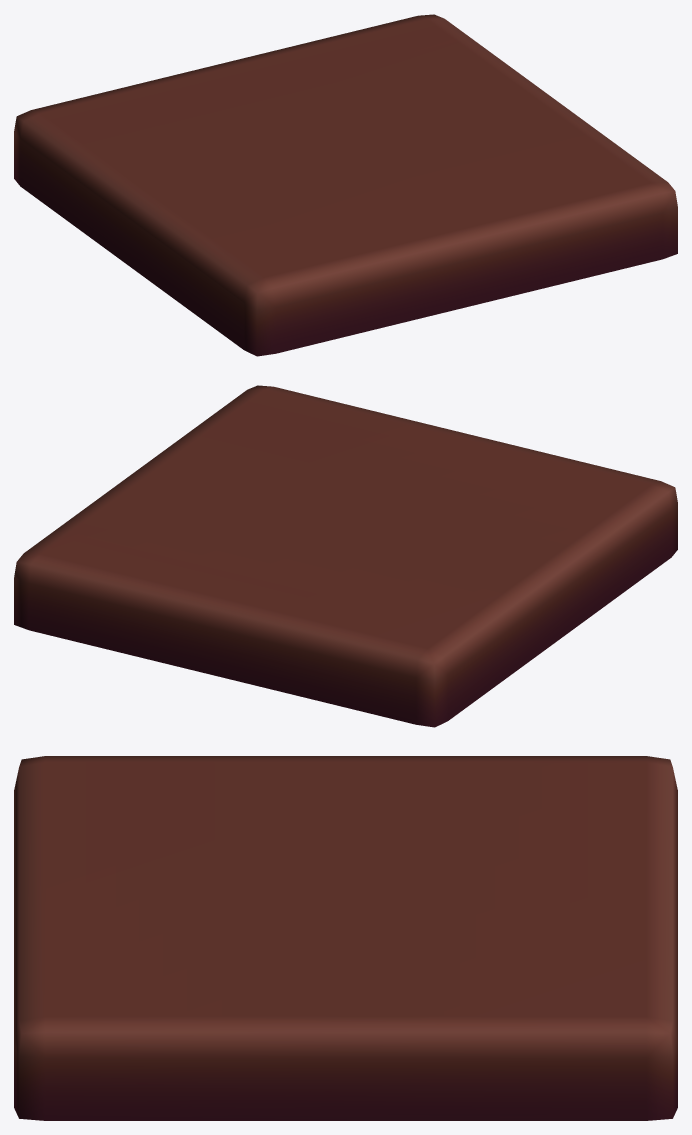
File: Square.fbx
3 views of the same model, one above another, from view 1: azimuth 30°, elevation 25°; view 2: azimuth 150°, elevation 25°; view 3: azimuth 270°, elevation 25° (orthographic). The views are drawn at different scales.
Parts seen in each view (by area): view 1: Plane.006; view 2: Plane.006; view 3: Plane.006.
Boxes of the visible parts, x1,y1,x2,y2 form: Plane.006: (14, 14, 677, 356); Plane.006: (14, 385, 677, 727); Plane.006: (14, 756, 677, 1120).
Size of the model in its own units: 176 by 26.64 by 176.
